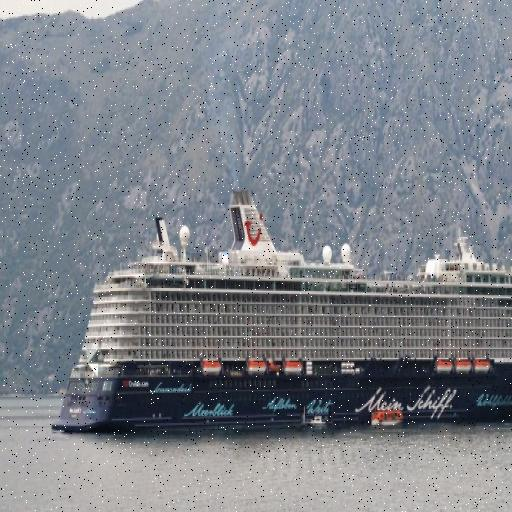cruises: (47, 180, 512, 434)
